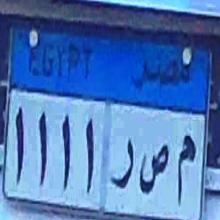1: (79, 110, 100, 198), (12, 104, 30, 189), (35, 110, 53, 190), (59, 109, 75, 194)
meem: (173, 129, 199, 210)
raa: (111, 134, 135, 198)
saad: (138, 136, 169, 203)
